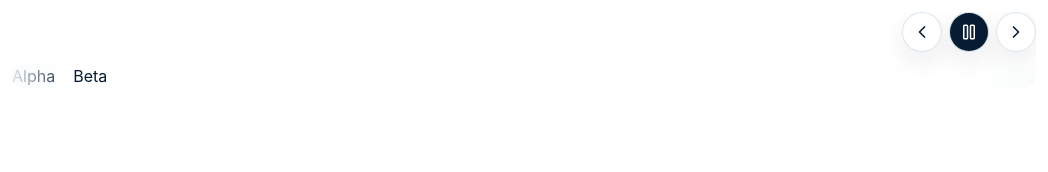
Scenario: AutoCarousel motion contract › renders mobile touch fallback state without hiding items
Press the mouse on the element with class "auto-carousel-viewport" at (34, 76), box left=12, top=66, right=107, bottom=86
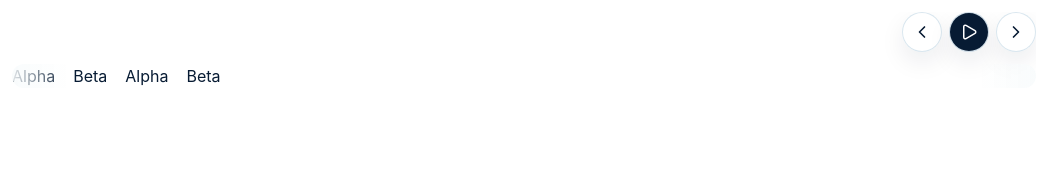
Result: the element named "Mobile auto carousel" has attribute data-touch-paused="true" at left=12, top=12, right=1036, bottom=88
